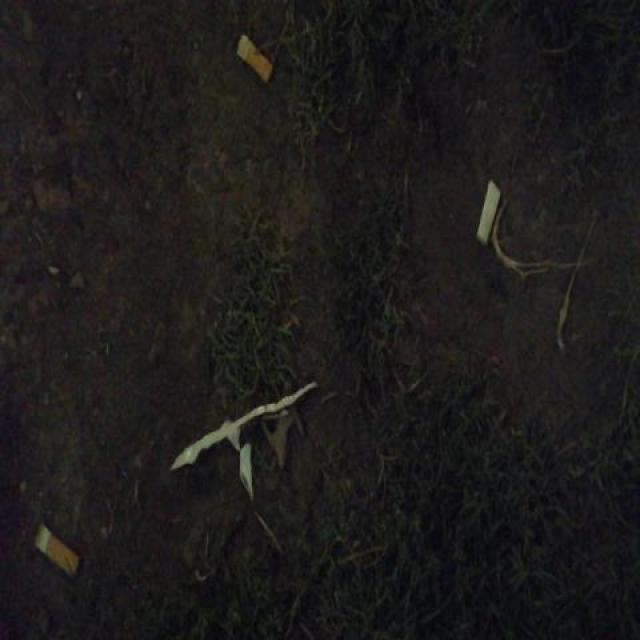non-organic waste: (25, 515, 84, 585), (471, 174, 505, 249), (233, 30, 276, 87)
